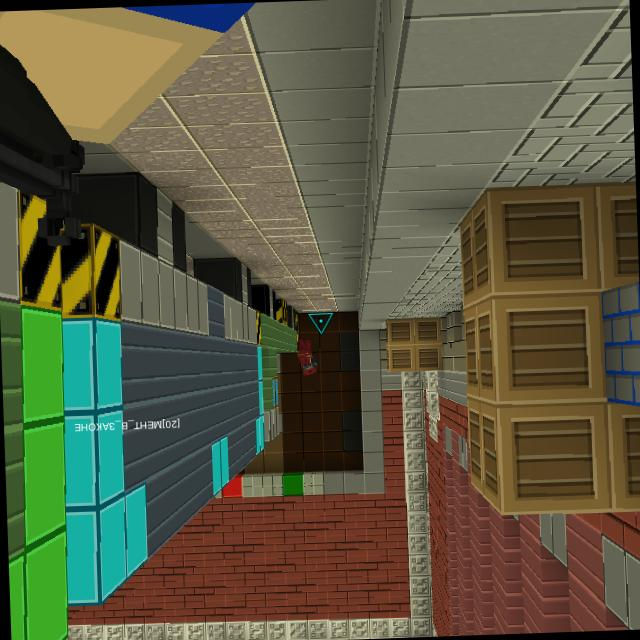enemy: (296, 337, 318, 376)
